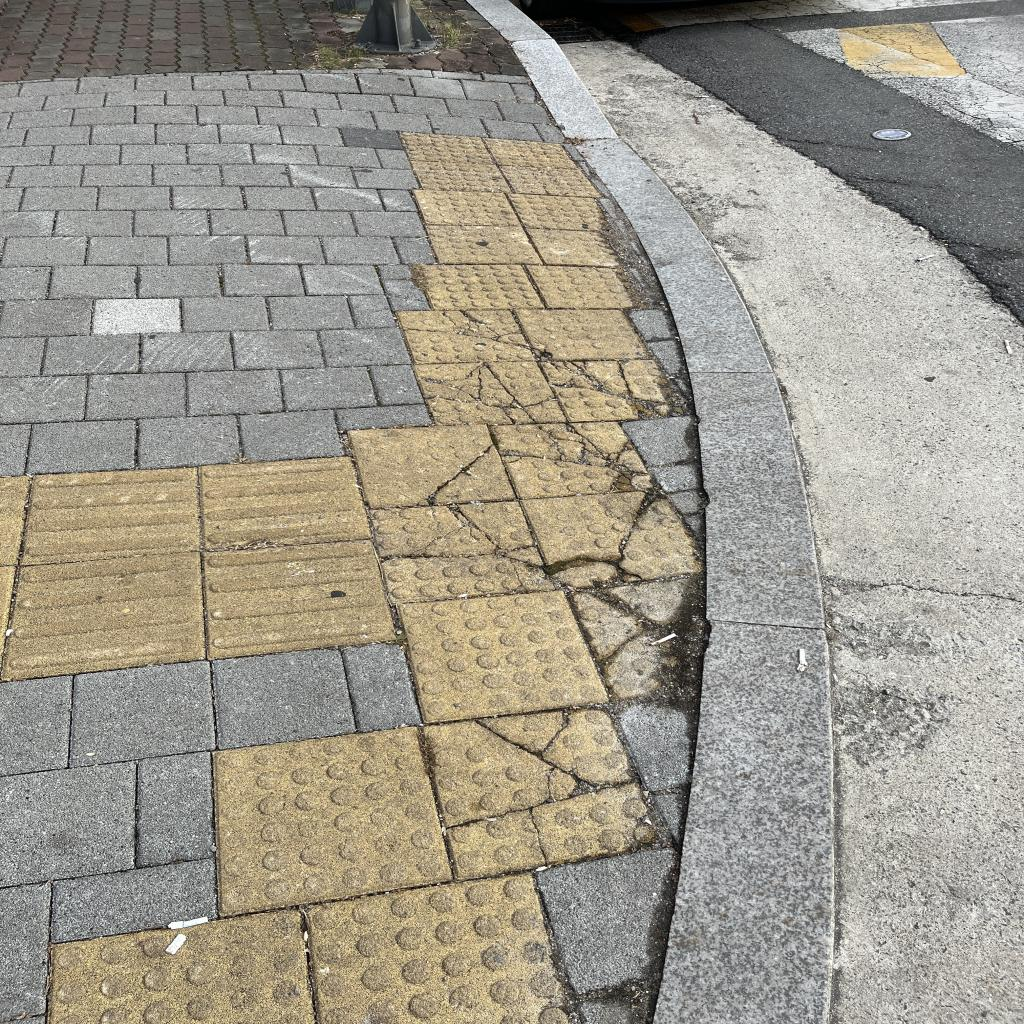Stop block broken: (422, 688, 667, 881), (522, 477, 704, 592), (368, 494, 553, 606), (349, 420, 515, 508), (491, 415, 657, 499), (540, 351, 690, 424), (413, 360, 565, 426), (397, 307, 534, 364)
Stop block normal: (200, 719, 451, 915), (398, 580, 609, 726), (419, 262, 543, 309)
